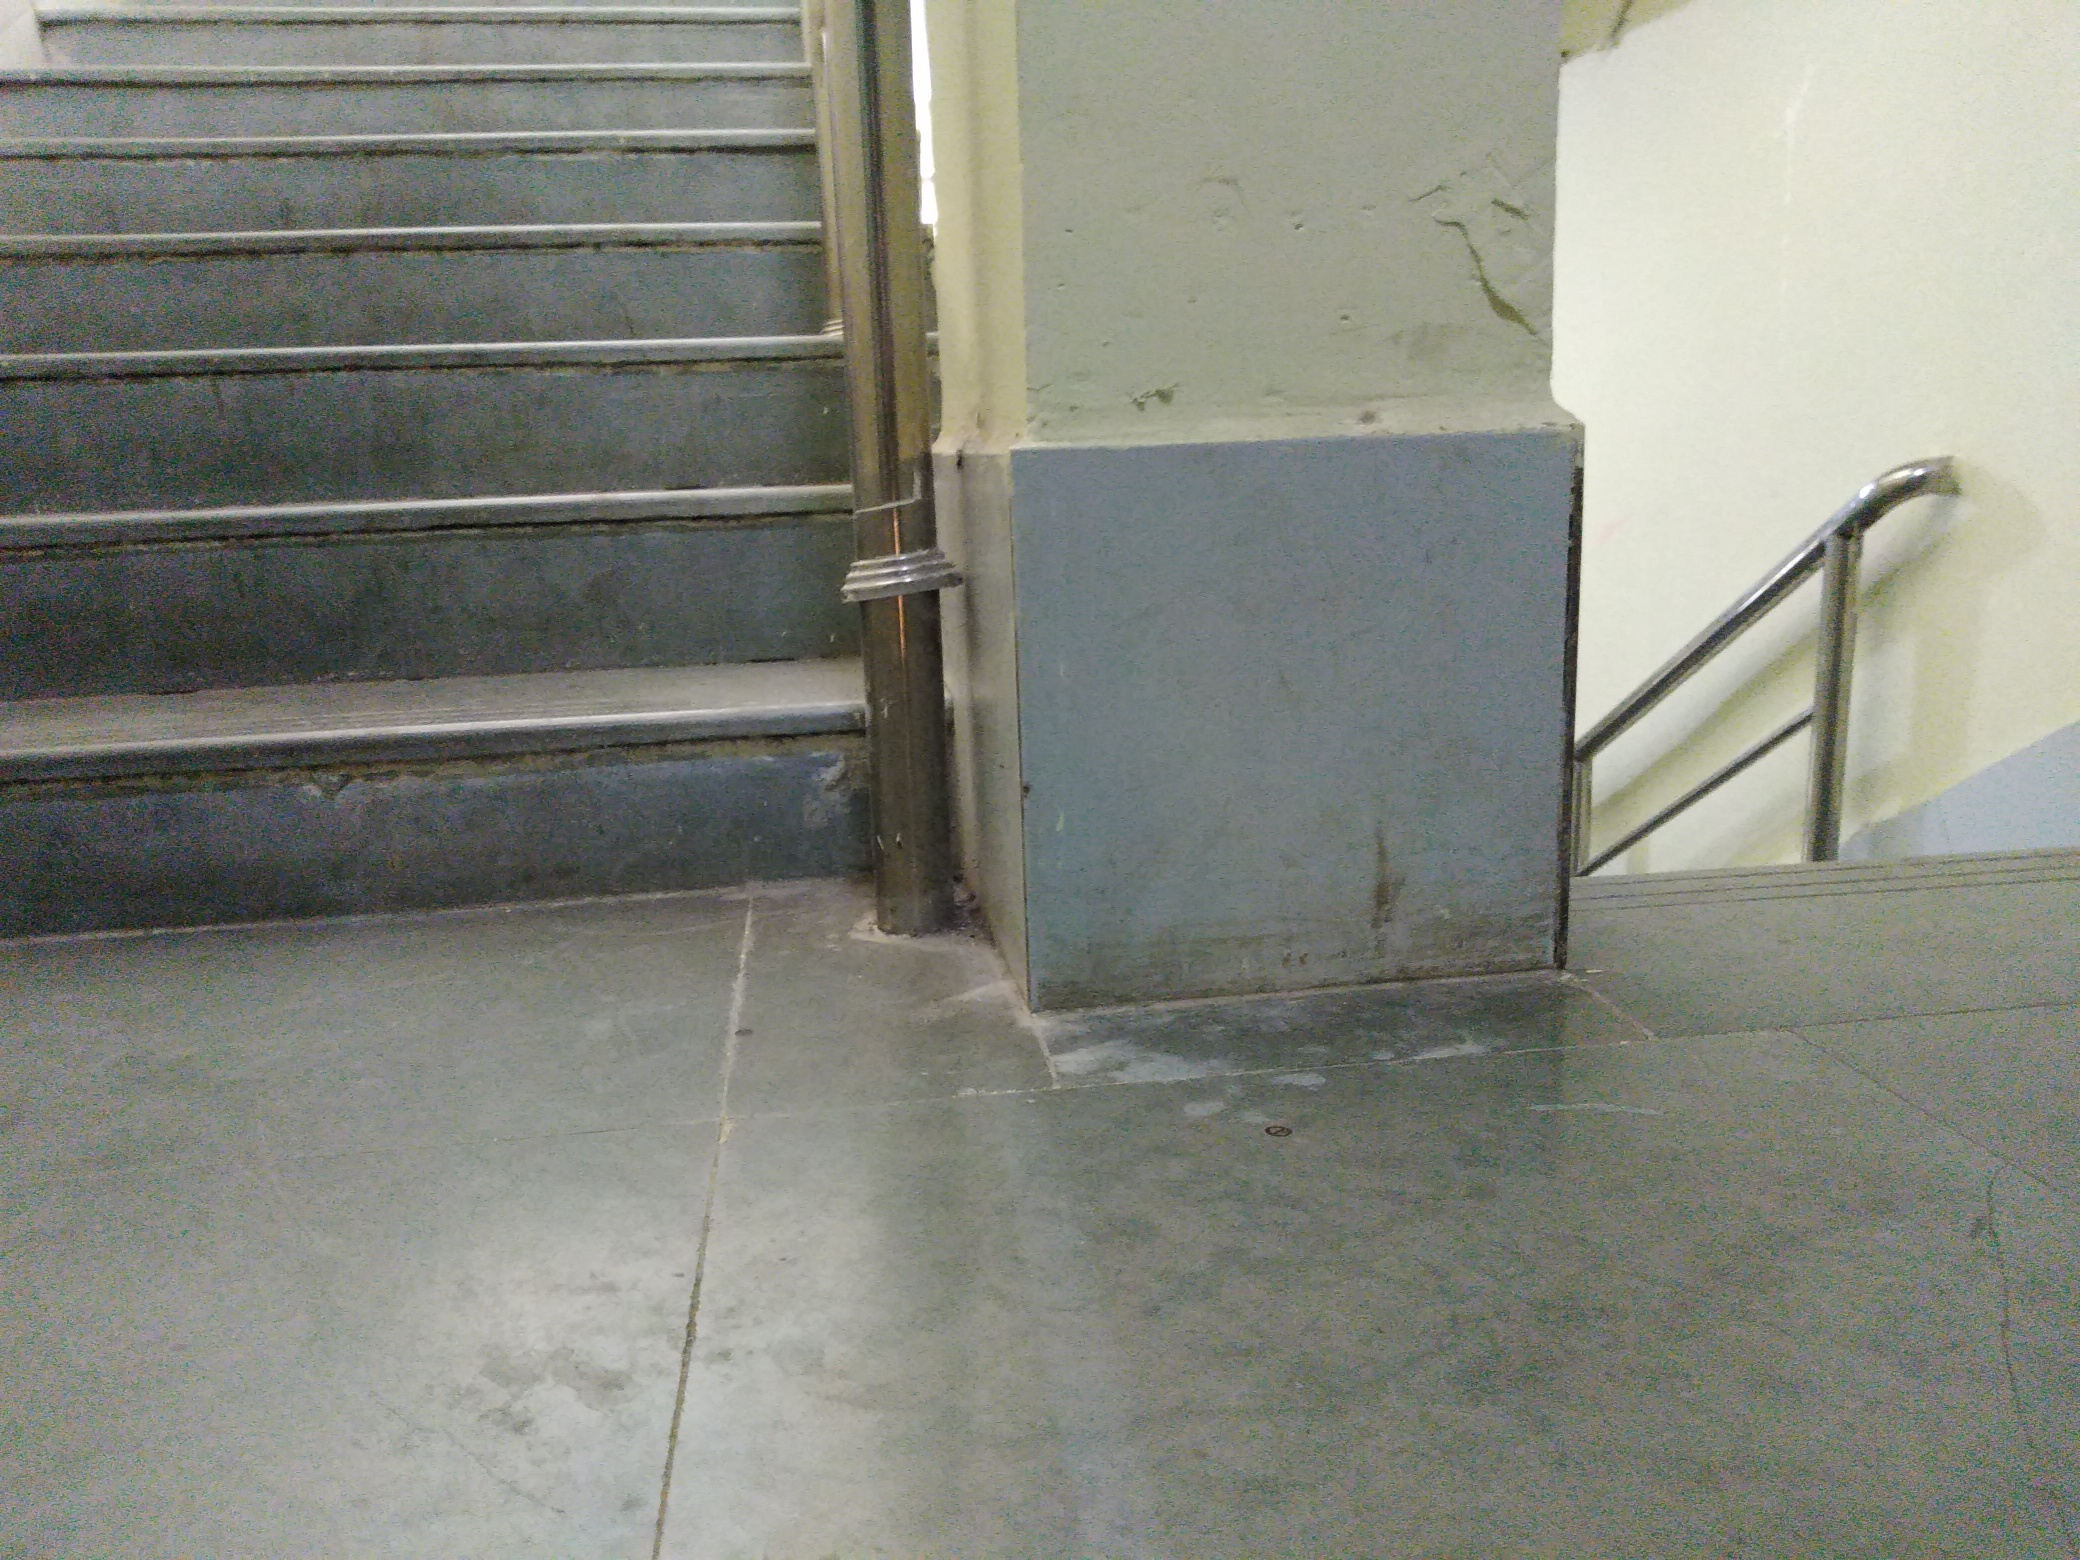stairs_up: (2, 8, 827, 932)
